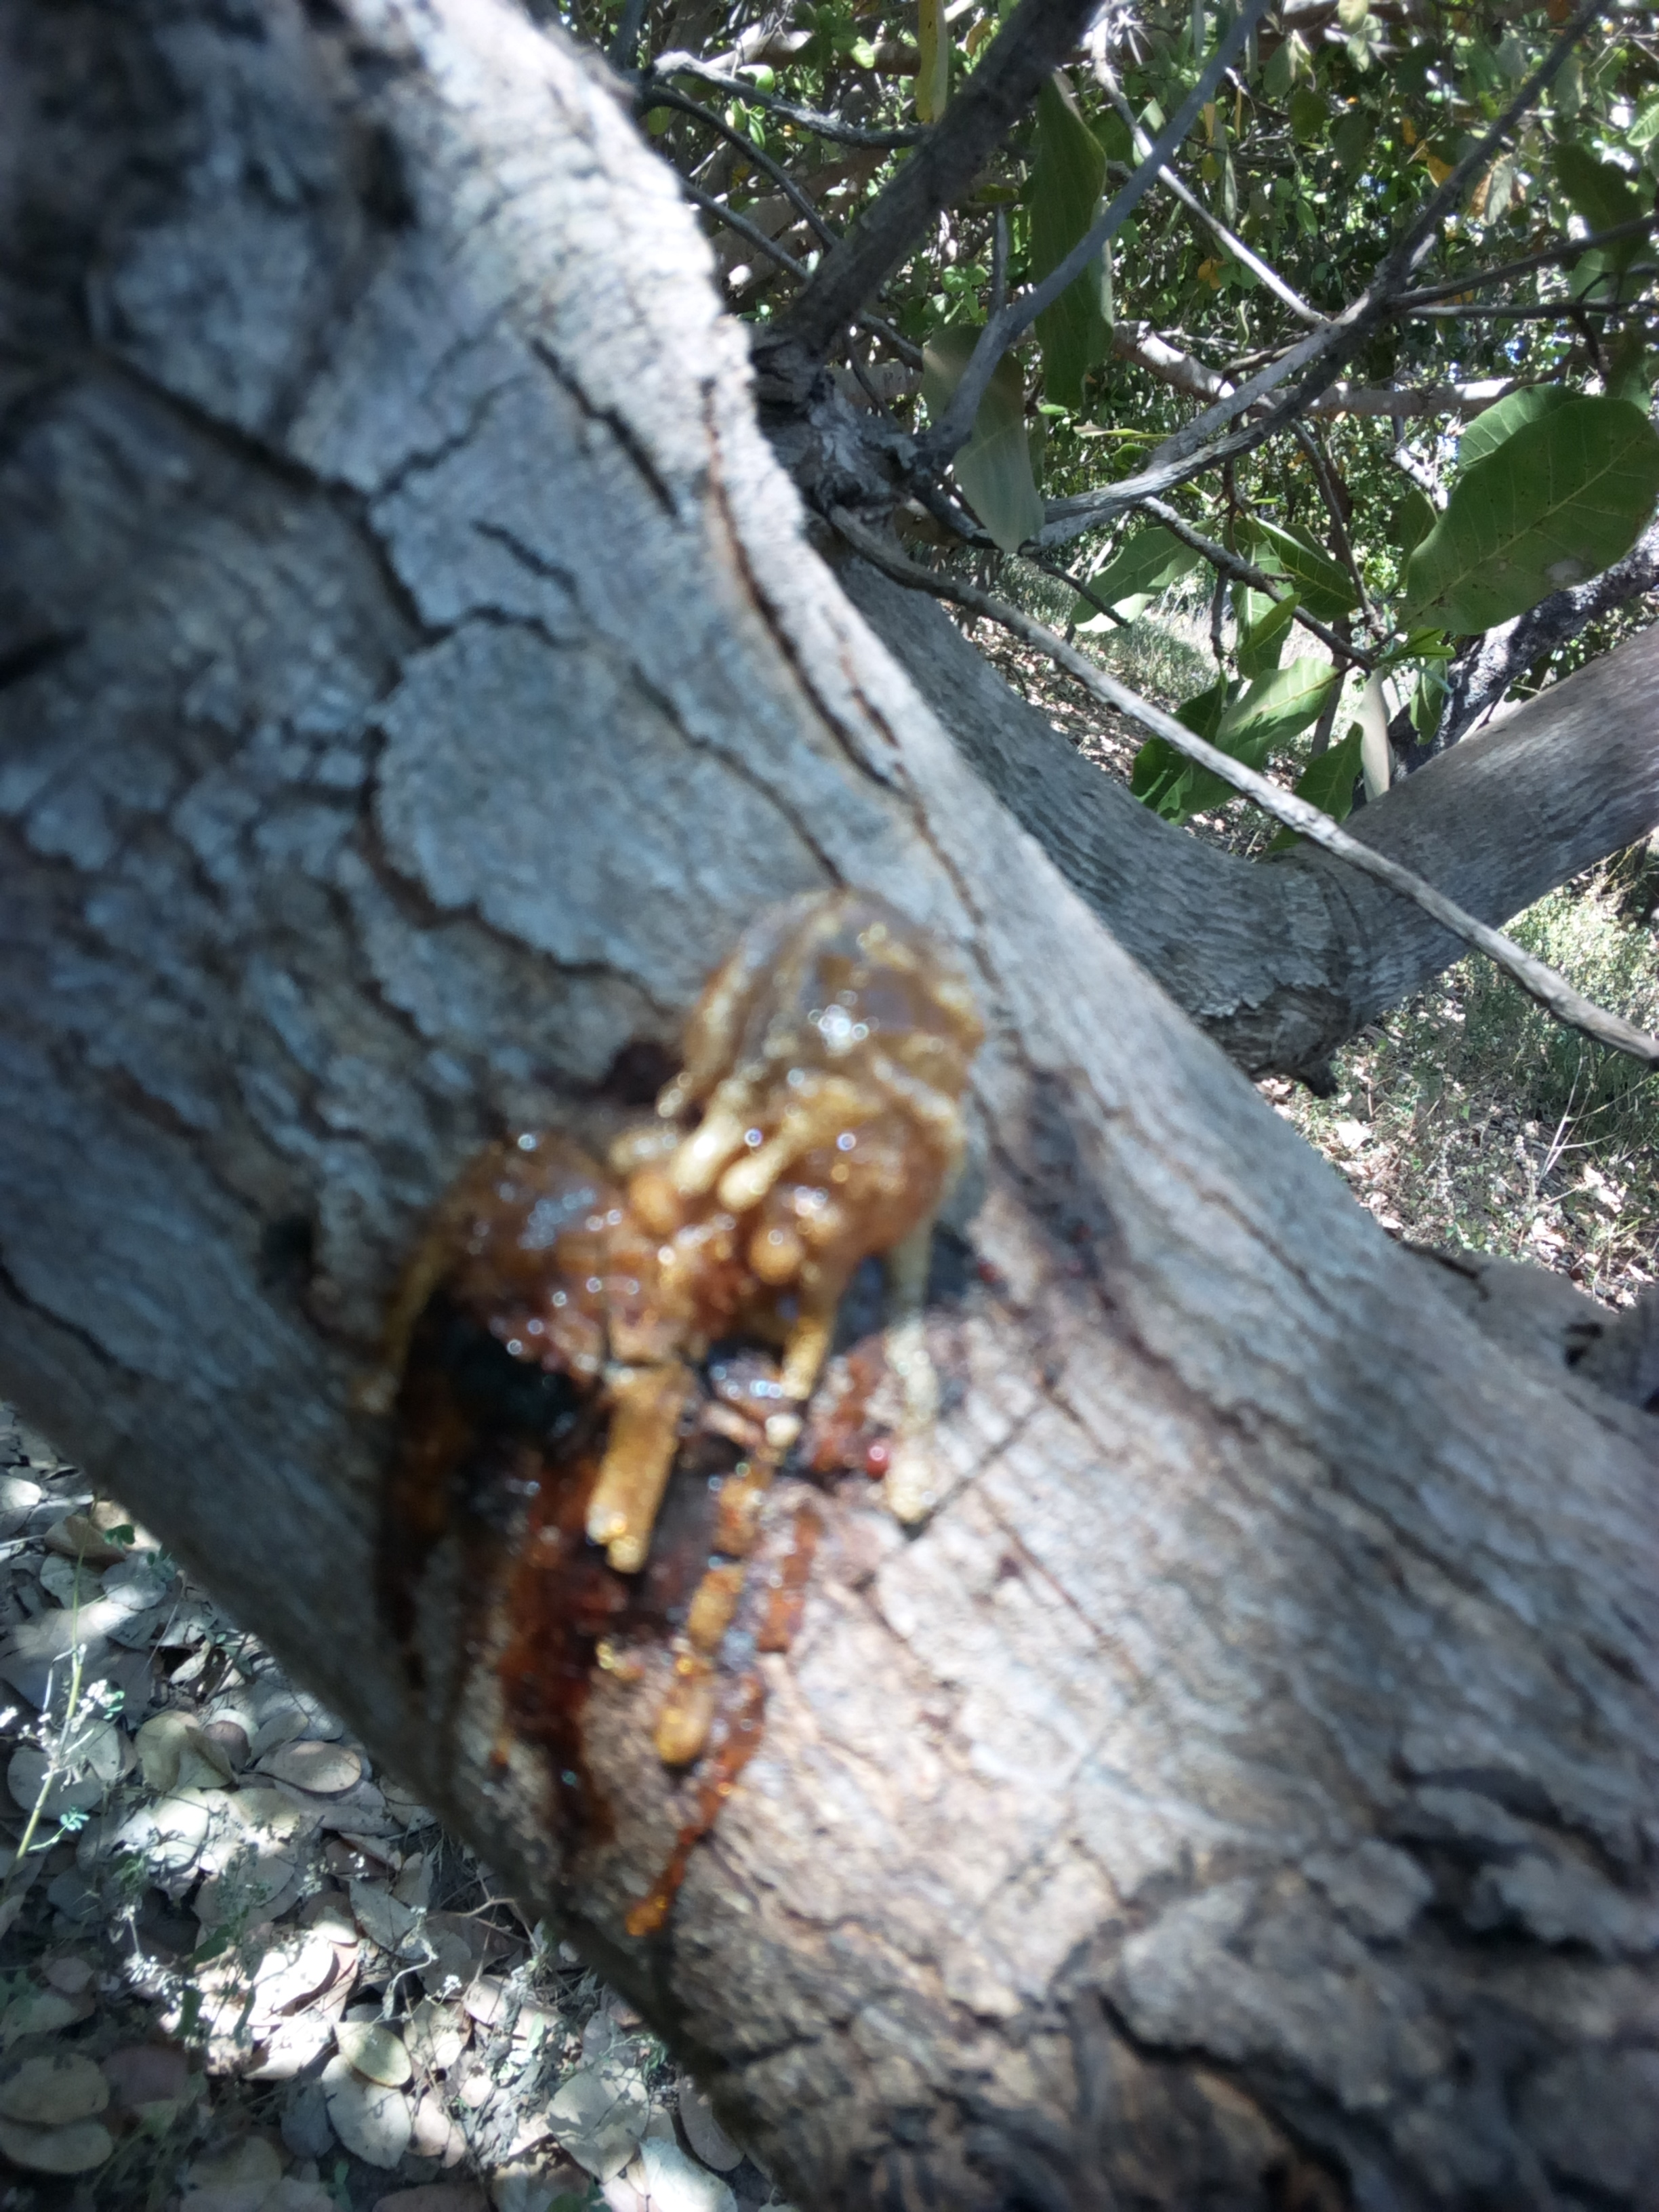Gommose: (335, 876, 976, 1937)
